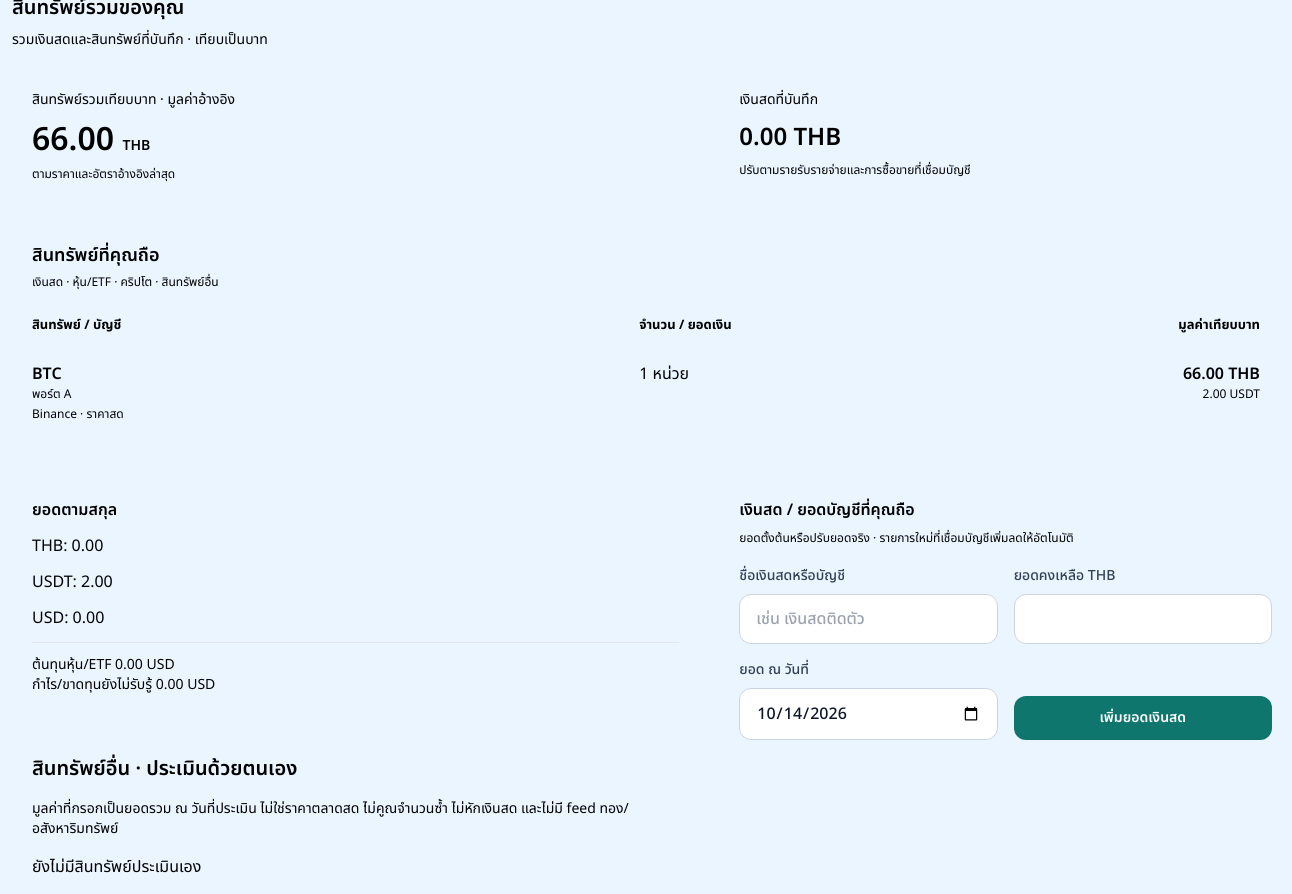
renders fresh conversions, expires locally, and keeps unknown writes on the original key
Type "เงินสด" into the field labelled "ชื่อเงินสดหรือบัญชี" at [868, 618], box [739,594,998,644]
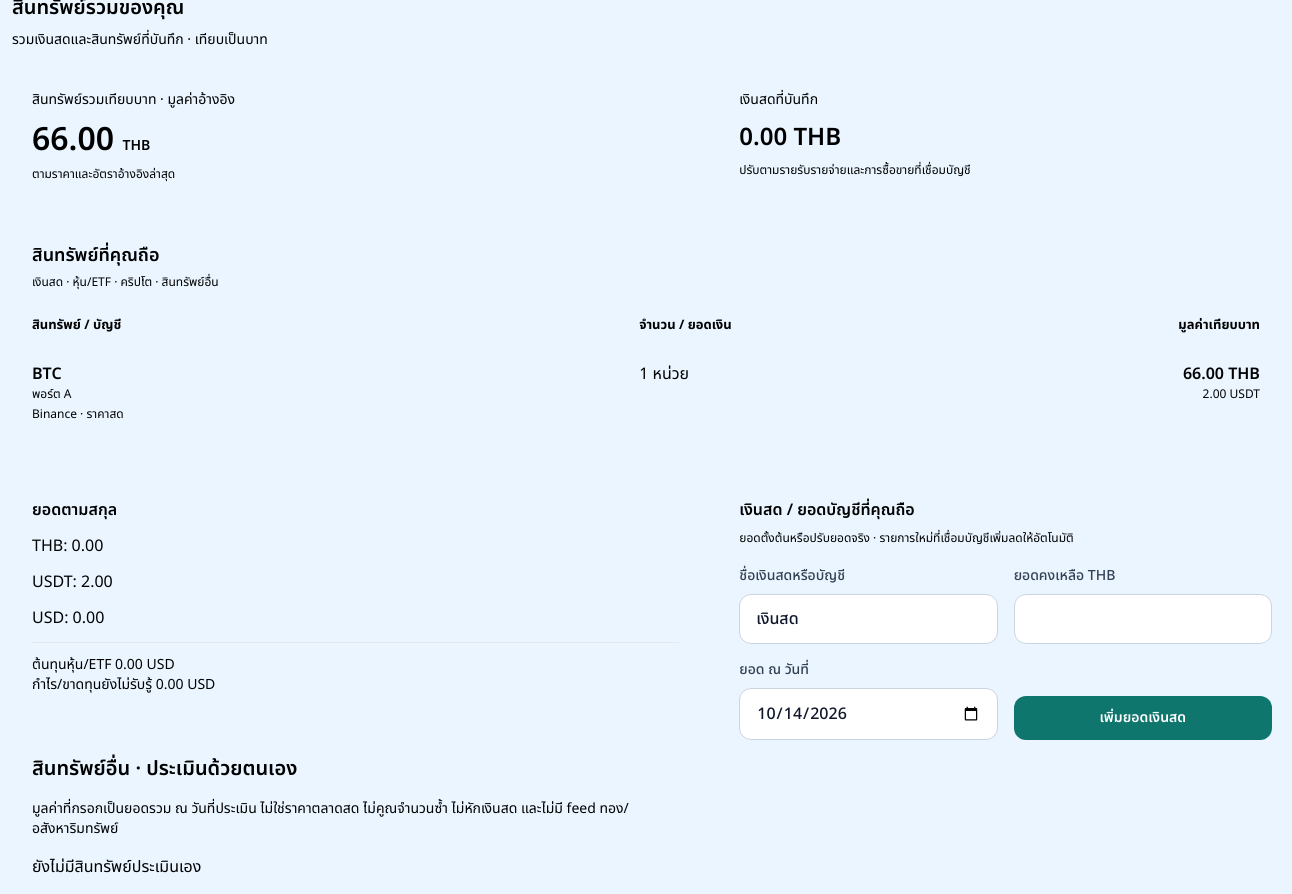
Type "1.001" into the field labelled "ยอดคงเหลือ THB" at [1143, 618], box [1014,594,1272,644]
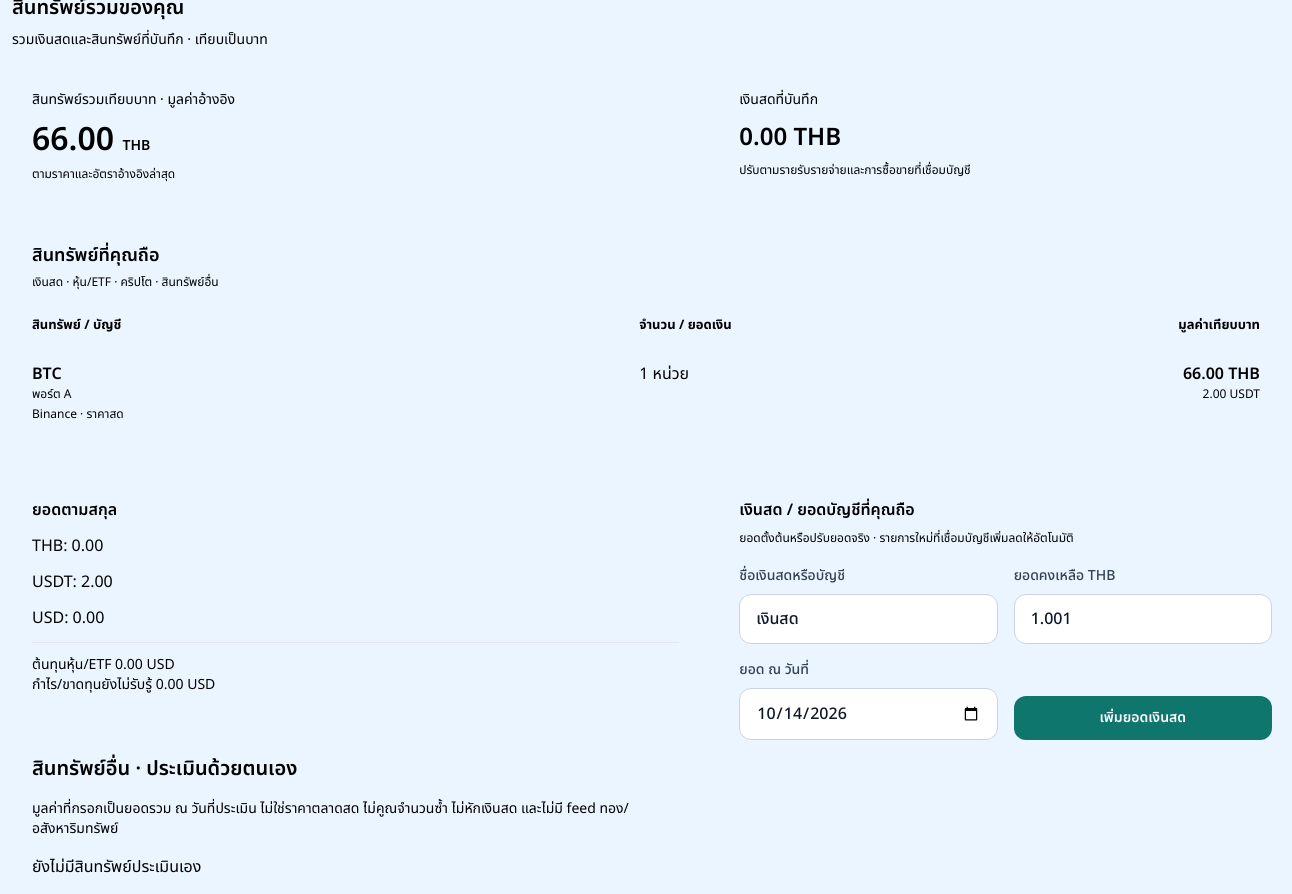
Submit the form named "บันทึกเงินสด", box [739,566,1272,740]
Replace the text in the field labelled "ยอดคงเหลือ THB" with "0.1" at [1143, 618], box [1014,594,1272,644]
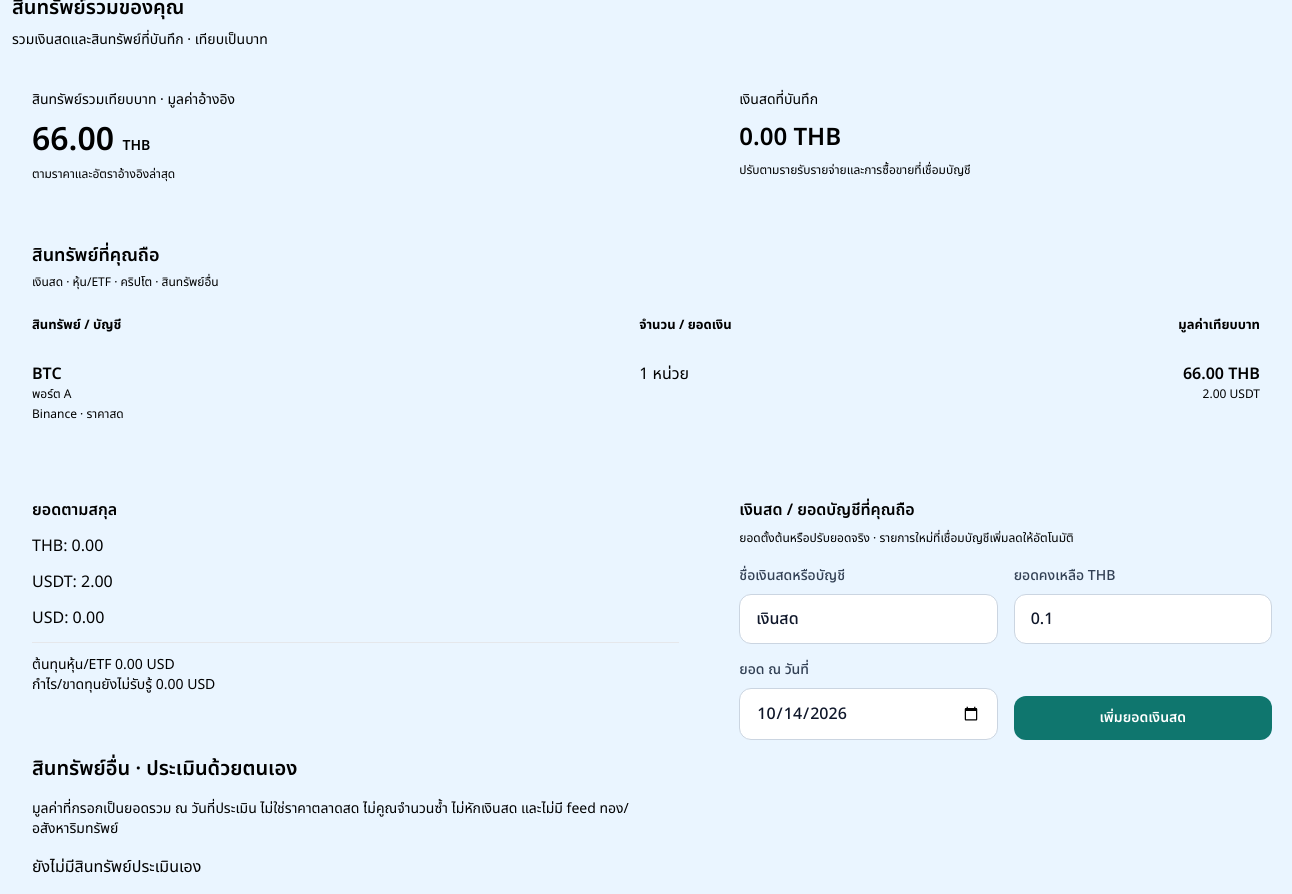
Submit the form named "บันทึกเงินสด", box [739,566,1272,740]
(page scrolled)
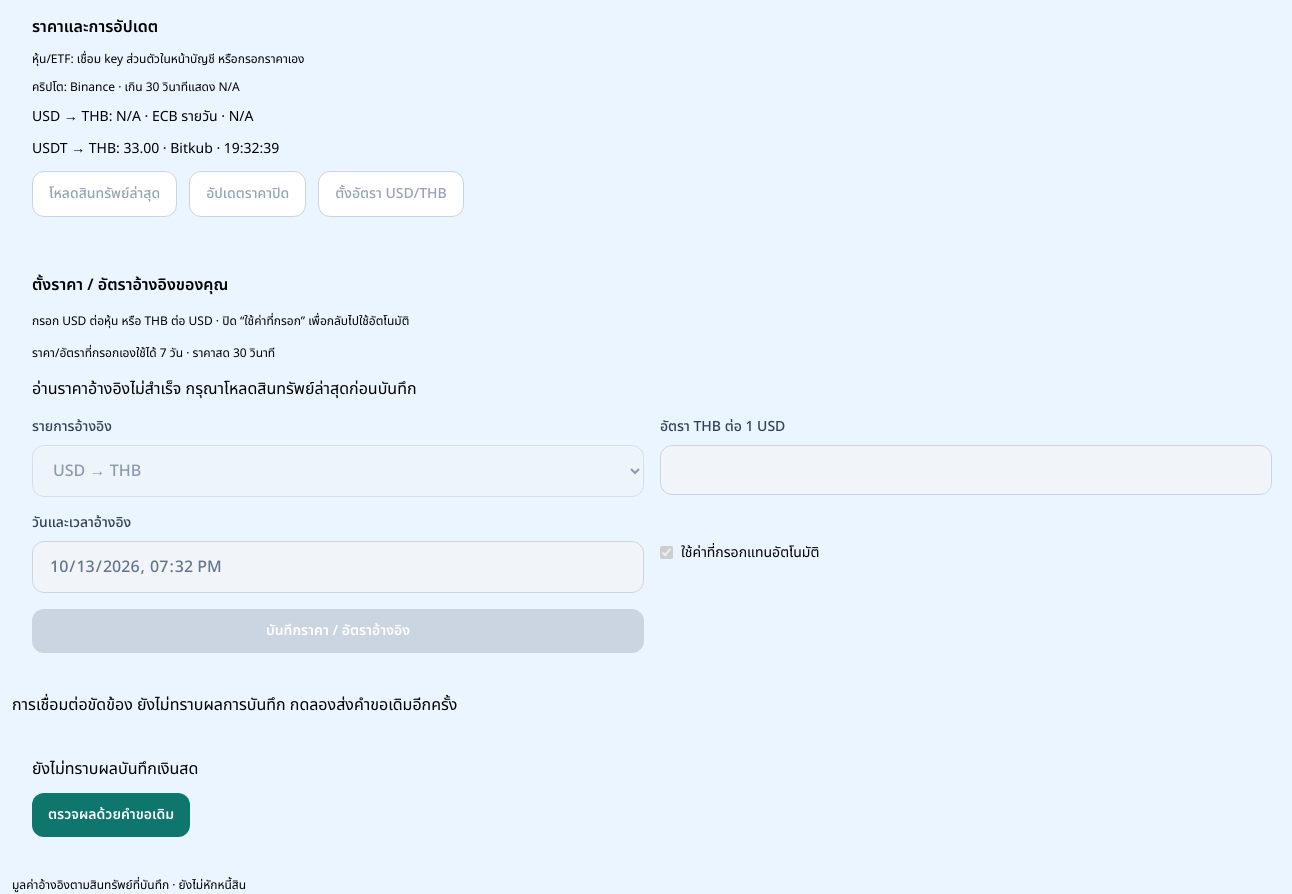
Click the button "ตรวจผลด้วยคำขอเดิม" at [111, 814], box [32,792,190,836]
(page scrolled)
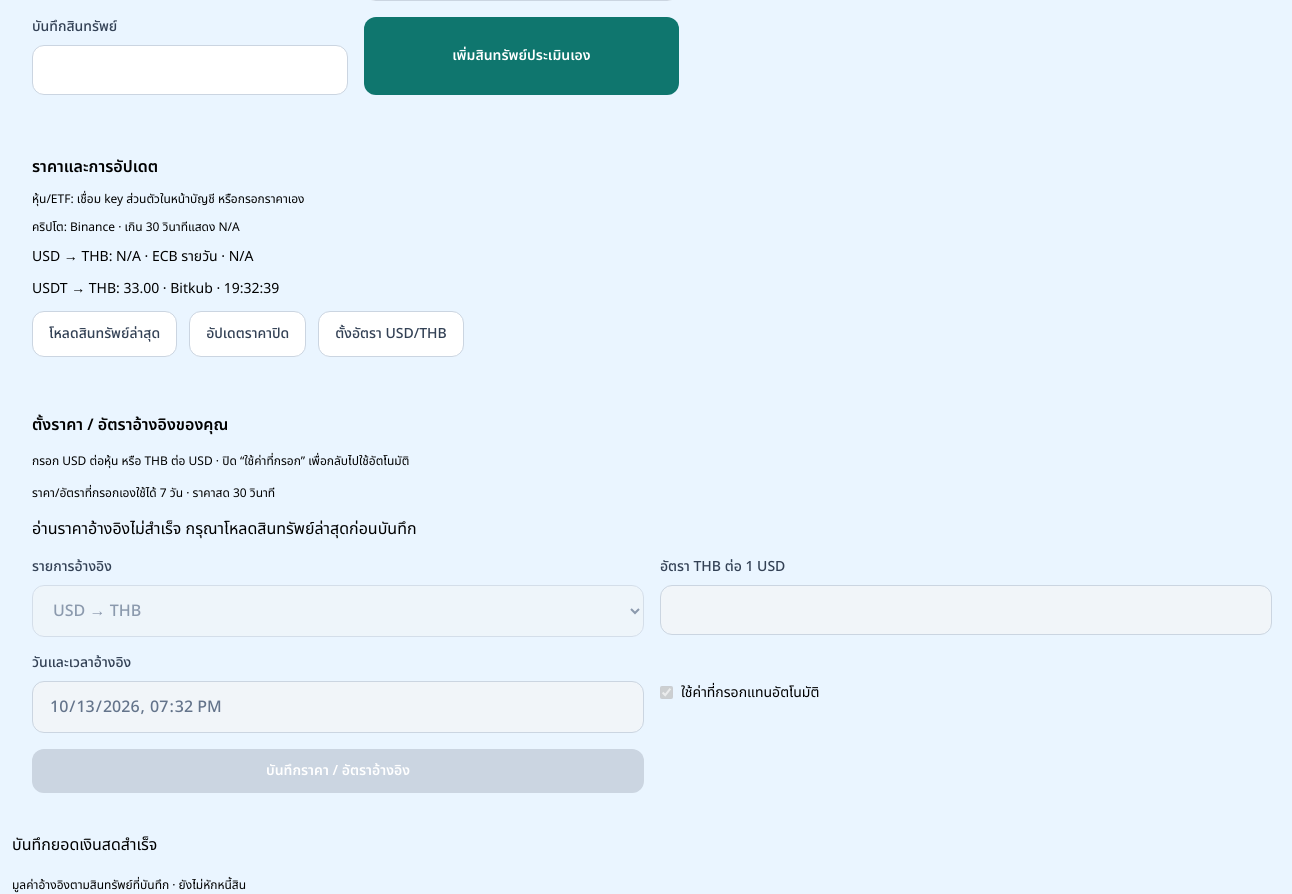
Expected: the text "บันทึกยอดเงินสดสำเร็จ" is shown, [12,832,157,856]
